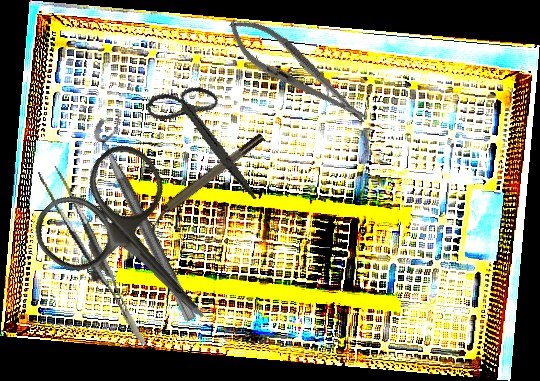Fixation Ring: (87, 110, 214, 324), (137, 130, 271, 235)
Iris Scissors: (22, 132, 254, 367), (129, 73, 284, 200)
Needle Holder: (218, 6, 377, 138)
Tissue Forceps: (37, 158, 147, 358)
